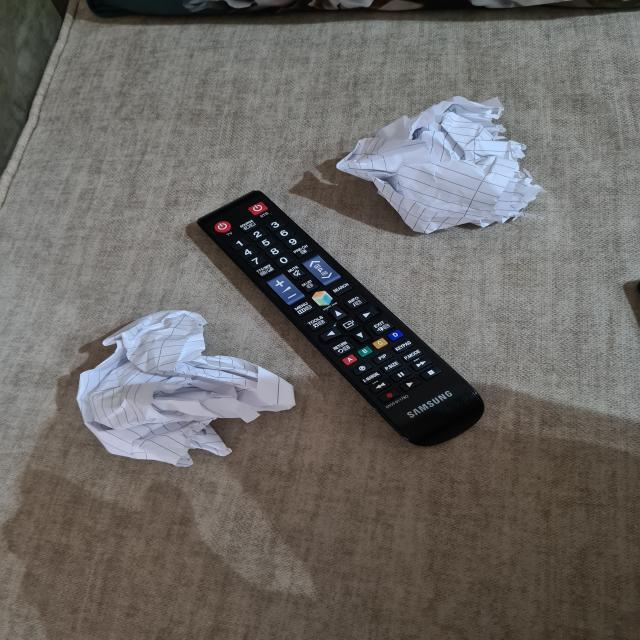Paper: (78, 303, 295, 465), (338, 98, 549, 234)
